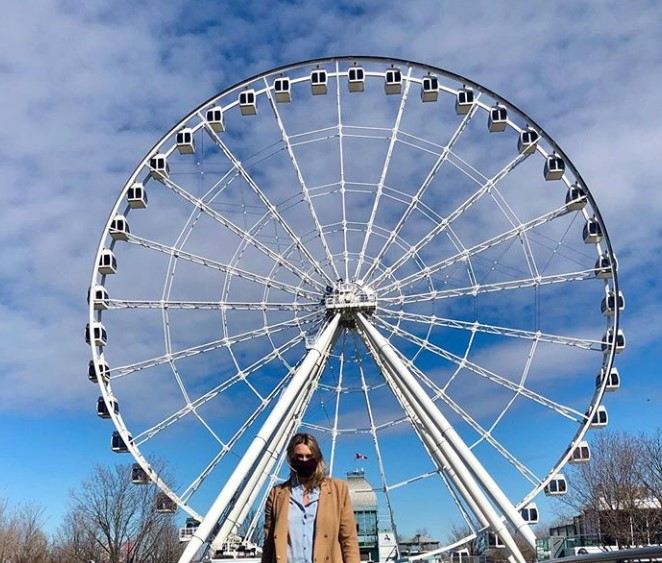face_with_mask: (285, 432, 325, 485)
